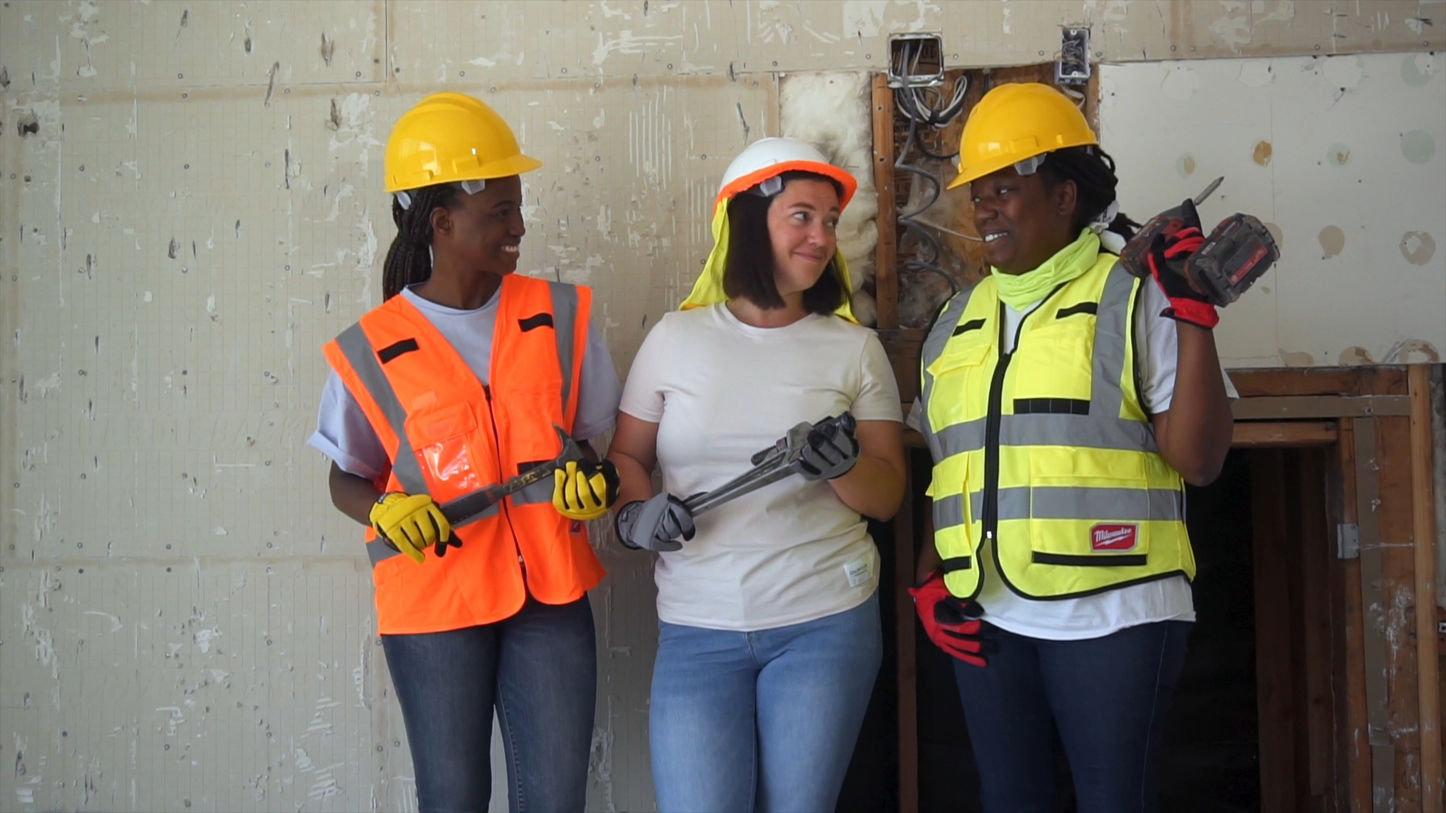gloves: (1130, 227, 1247, 337), (904, 567, 1008, 678), (778, 395, 879, 493), (358, 483, 469, 569), (531, 437, 619, 531), (627, 491, 702, 556)
